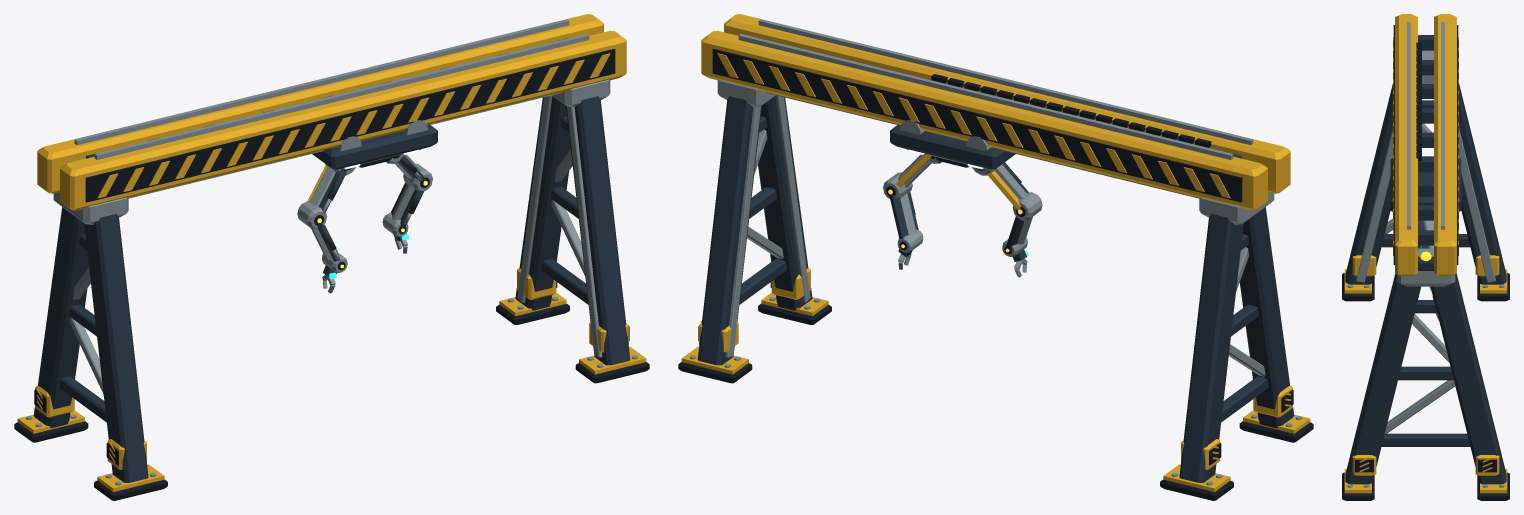
Rendered from hangar_gantry_crane.glb.
The picture shows the model from 3 angles, left to right: view 1: azimuth 30°, elevation 25°; view 2: azimuth 150°, elevation 25°; view 3: azimuth 270°, elevation 25°; orthographic projection. The views are drawn at different scales.
Visible parts, largest first — view 1: Box-girder bridge, linear rails and cable carrier, Port A-frame stanchion, Starboard A-frame stanchion, Traverse trolley and work lights, Left hoist manipulator, Right hoist manipulator; view 2: Box-girder bridge, linear rails and cable carrier, Port A-frame stanchion, Starboard A-frame stanchion, Traverse trolley and work lights, Left hoist manipulator, Right hoist manipulator; view 3: Starboard A-frame stanchion, Box-girder bridge, linear rails and cable carrier, Port A-frame stanchion, Traverse trolley and work lights, Right hoist manipulator.
Boxes of the visible parts, <box> form: Box-girder bridge, linear rails and cable carrier: <box>37,14,626,210</box>; Port A-frame stanchion: <box>14,192,167,500</box>; Starboard A-frame stanchion: <box>496,80,649,383</box>; Traverse trolley and work lights: <box>312,120,437,169</box>; Left hoist manipulator: <box>297,164,355,293</box>; Right hoist manipulator: <box>382,154,432,253</box>; Box-girder bridge, linear rails and cable carrier: <box>701,14,1290,210</box>; Port A-frame stanchion: <box>1160,192,1313,500</box>; Starboard A-frame stanchion: <box>678,80,831,383</box>; Traverse trolley and work lights: <box>890,120,1015,169</box>; Left hoist manipulator: <box>972,162,1042,277</box>; Right hoist manipulator: <box>883,154,941,269</box>; Starboard A-frame stanchion: <box>1342,248,1509,500</box>; Box-girder bridge, linear rails and cable carrier: <box>1393,14,1458,276</box>; Port A-frame stanchion: <box>1342,50,1509,301</box>; Traverse trolley and work lights: <box>1390,156,1461,211</box>; Right hoist manipulator: <box>1418,220,1438,320</box>.
Bounding box in the file's own units: 26 × 14 × 8.
